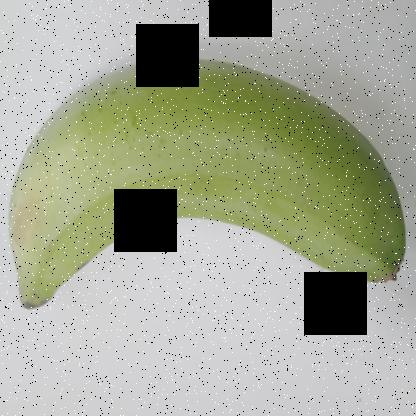freshunripe: (3, 46, 415, 316)
